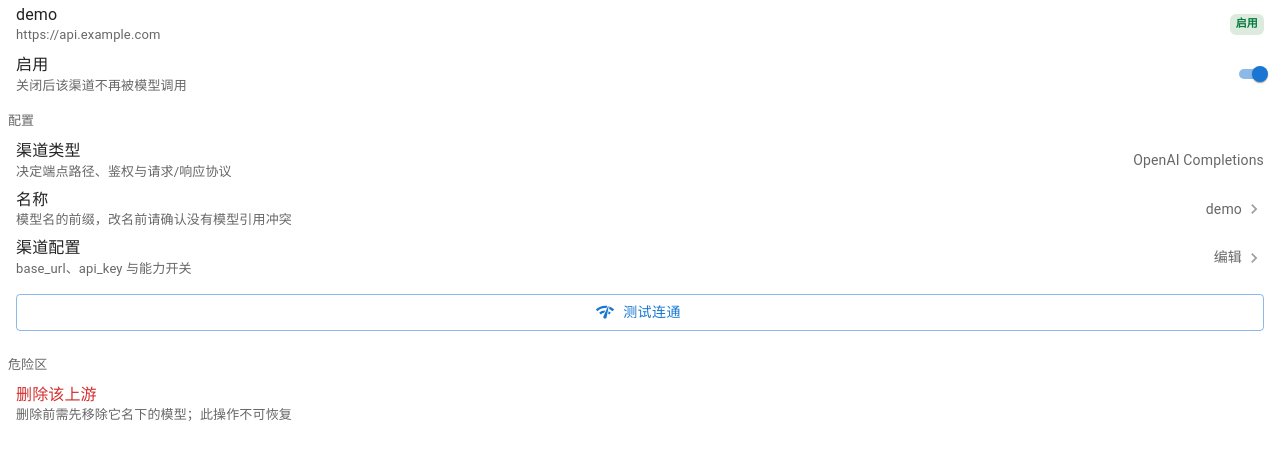
UpstreamDetailPage › 测试连通成功：提交 action=test/id，行内展示延迟与模型
The width and height of the screenshot is (1280, 467).
Expected: the text "https://api.example.com" is shown, [16,27,160,42]
Click the button "测试连通".
click(640, 312)  # box [16,294,1264,330]
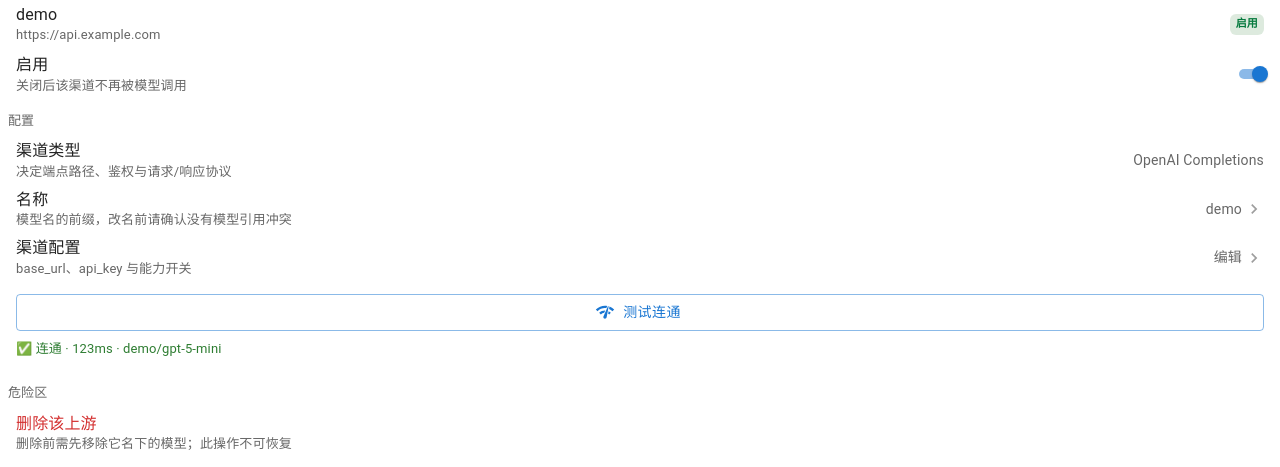
Expected: the text "✅ 连通 · 123ms · demo/gpt-5-mini" is shown, [16,340,222,356]
